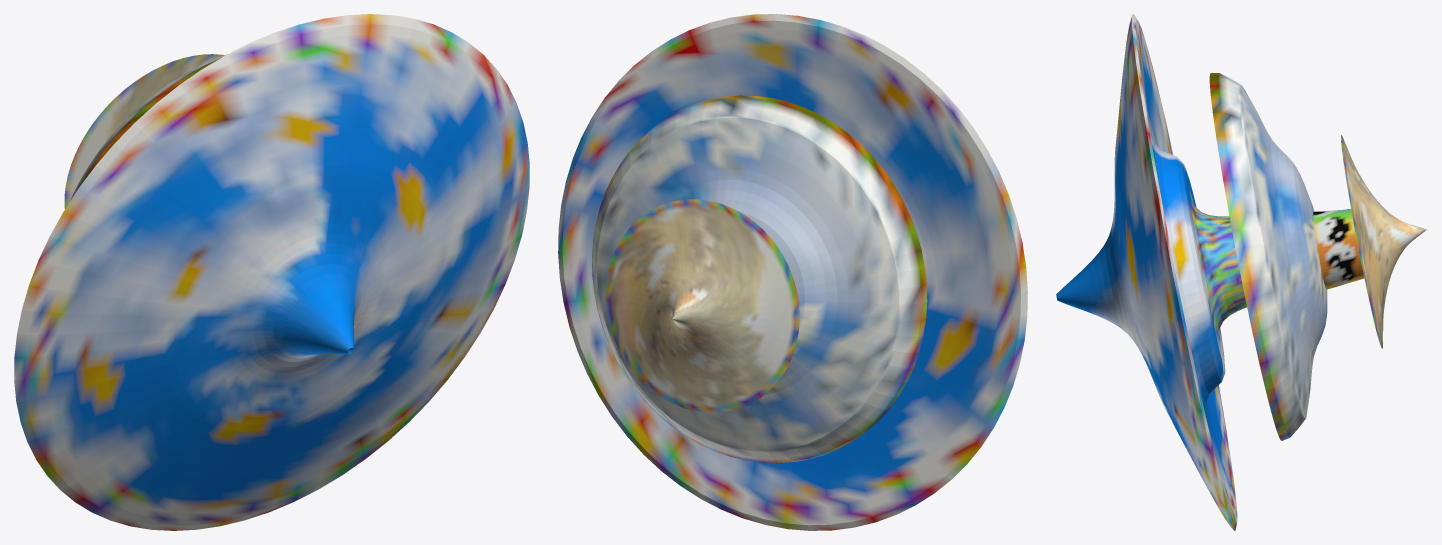
Rendered from april28outdoorpagoda18.glb.
3 renders of one model, left to right at view 1: azimuth 30°, elevation 25°; view 2: azimuth 150°, elevation 25°; view 3: azimuth 270°, elevation 25°, orthographic. The views are drawn at different scales.
Visible parts, largest first — view 1: Lathe 4, Lathe, Lathe 3; view 2: Lathe 4, Lathe 3, Lathe; view 3: Lathe 4, Lathe 3, Lathe, Lathe.001.
Part boxes in pixels (left/top/right/bottom): Lathe 4: left=14, top=14, right=529, bottom=530; Lathe: left=64, top=54, right=223, bottom=208; Lathe 3: left=70, top=54, right=227, bottom=200; Lathe 4: left=558, top=14, right=1027, bottom=530; Lathe 3: left=592, top=95, right=927, bottom=462; Lathe: left=606, top=199, right=799, bottom=412; Lathe 4: left=1056, top=14, right=1246, bottom=530; Lathe 3: left=1209, top=73, right=1327, bottom=440; Lathe: left=1341, top=135, right=1427, bottom=348; Lathe.001: left=1313, top=209, right=1364, bottom=289.
Bounding box in the file's own units: 3.74 × 3.67 × 2.64.
